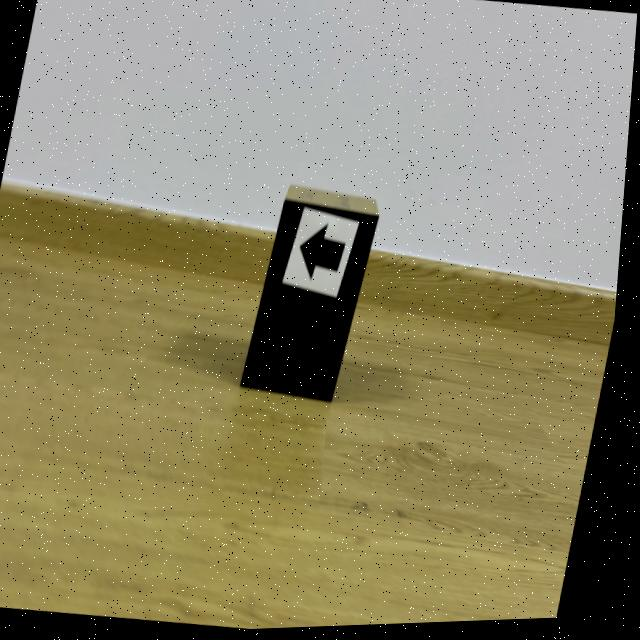LEFT: (304, 227, 349, 282)
